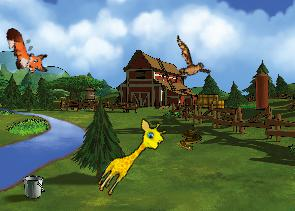eagle: (160, 35, 218, 89)
fox: (3, 21, 51, 80)
giraffe: (93, 113, 170, 204)
